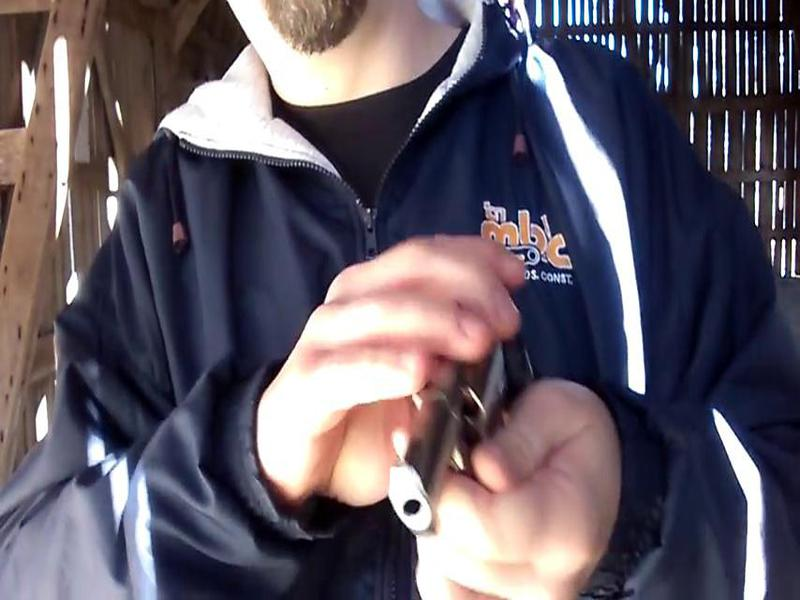Revolver: (366, 274, 551, 562)
